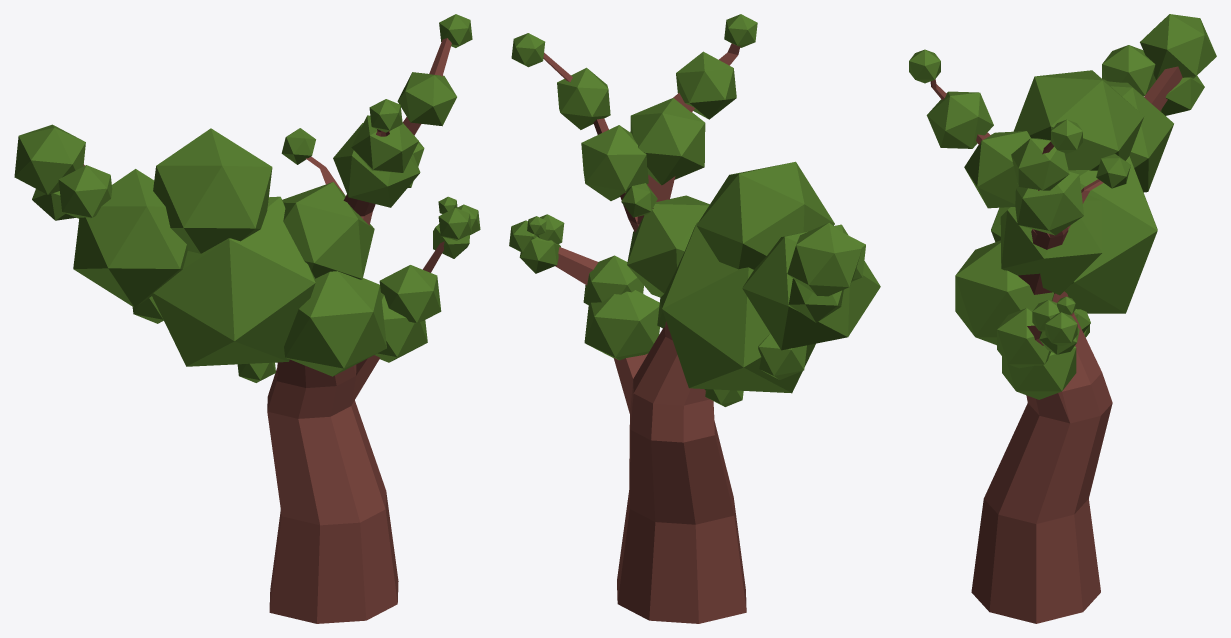
The model's file is tree 3.fbx.
3 renders of one model, left to right at view 1: azimuth 30°, elevation 25°; view 2: azimuth 150°, elevation 25°; view 3: azimuth 270°, elevation 25°, orthographic.
Parts seen in each view (by area): view 1: Tree 2; view 2: Tree 2; view 3: Tree 2.
Part boxes in pixels (x1,y1,x2,y2): Tree 2: (14, 14, 480, 623); Tree 2: (509, 14, 880, 623); Tree 2: (909, 14, 1216, 623).
Size of the model in its own units: 740 by 954 by 492.
